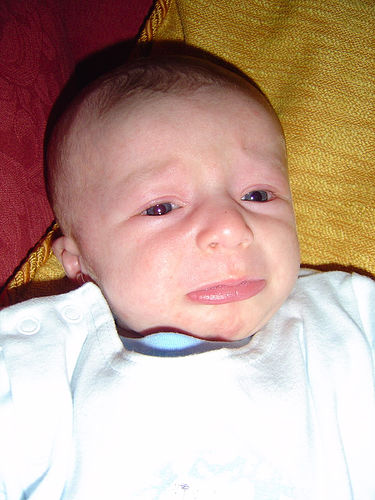without_mask: (52, 62, 326, 356)
